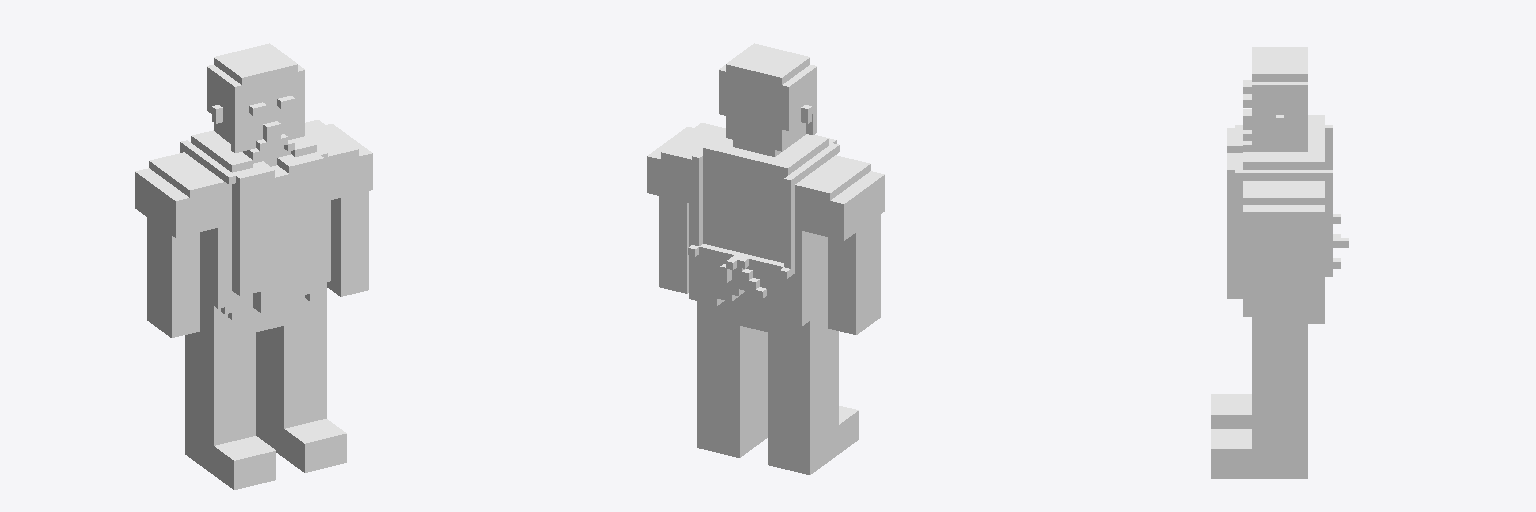
Rendered from Trabalhador_CasaPedra.obj.
3 renders of one model, left to right at view 1: azimuth 30°, elevation 25°; view 2: azimuth 150°, elevation 25°; view 3: azimuth 270°, elevation 25°, orthographic.
Size of the model in its own units: 28 by 53 by 17.